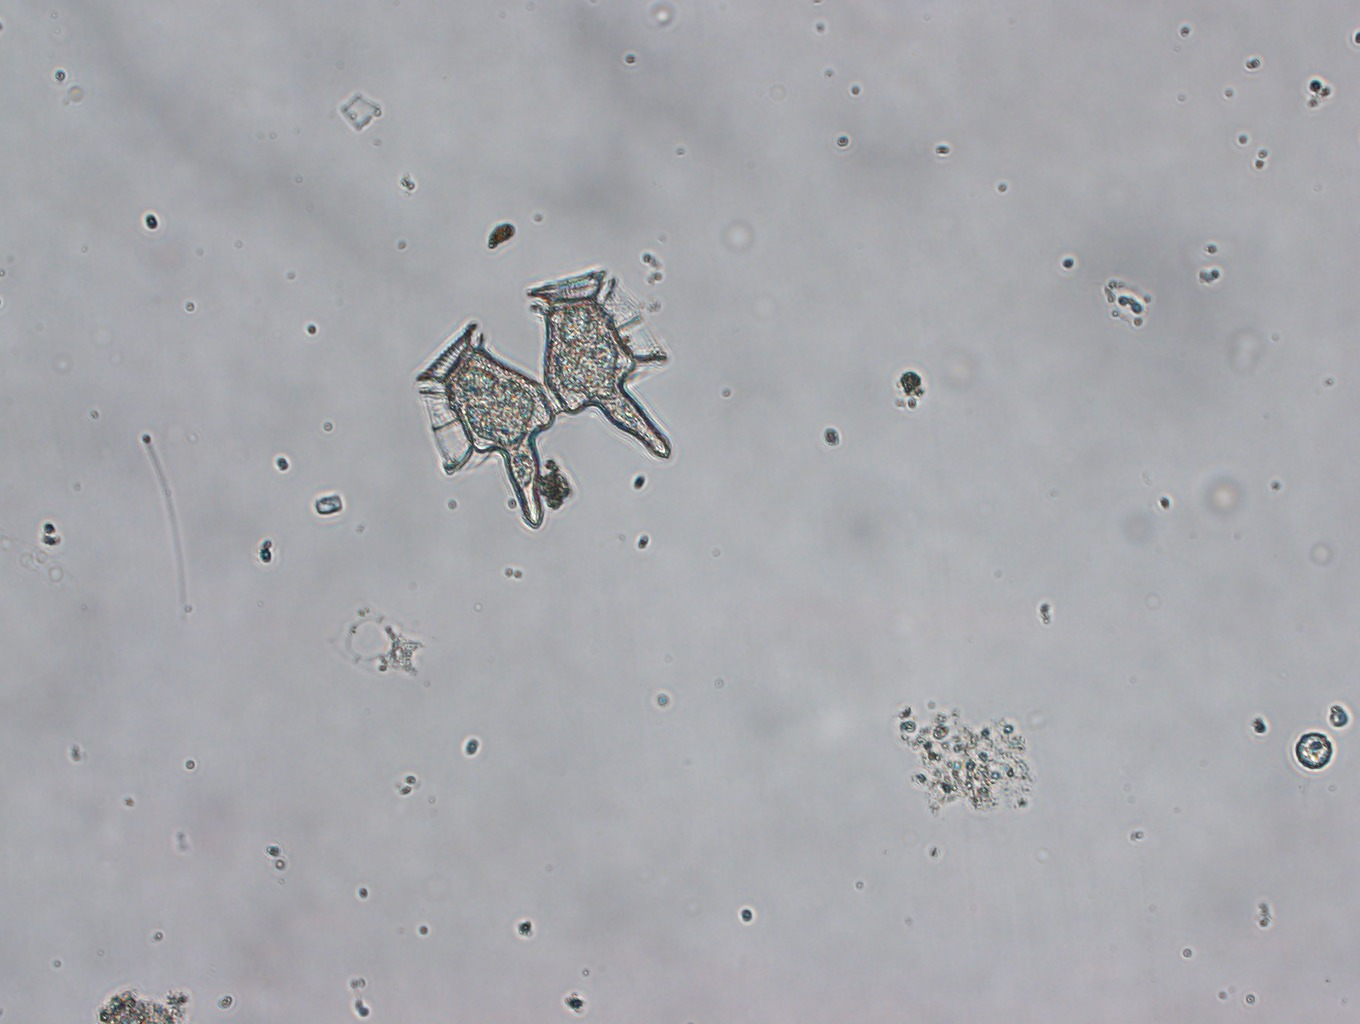dinophysis caudata: (412, 267, 672, 532)
